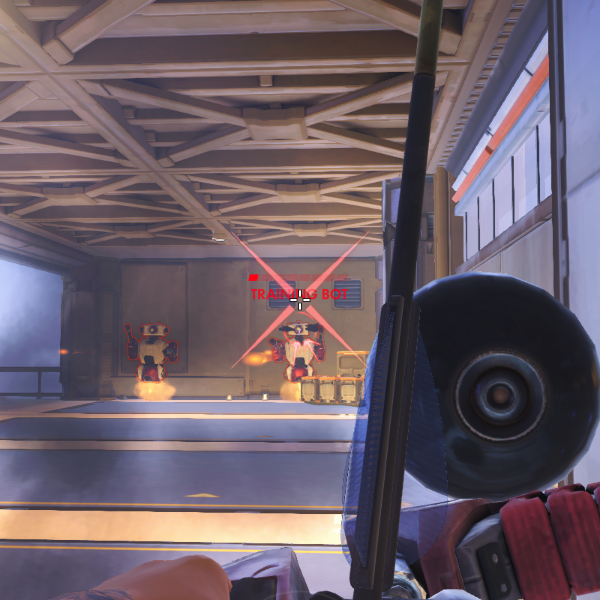hpbar: (248, 274, 349, 282)
